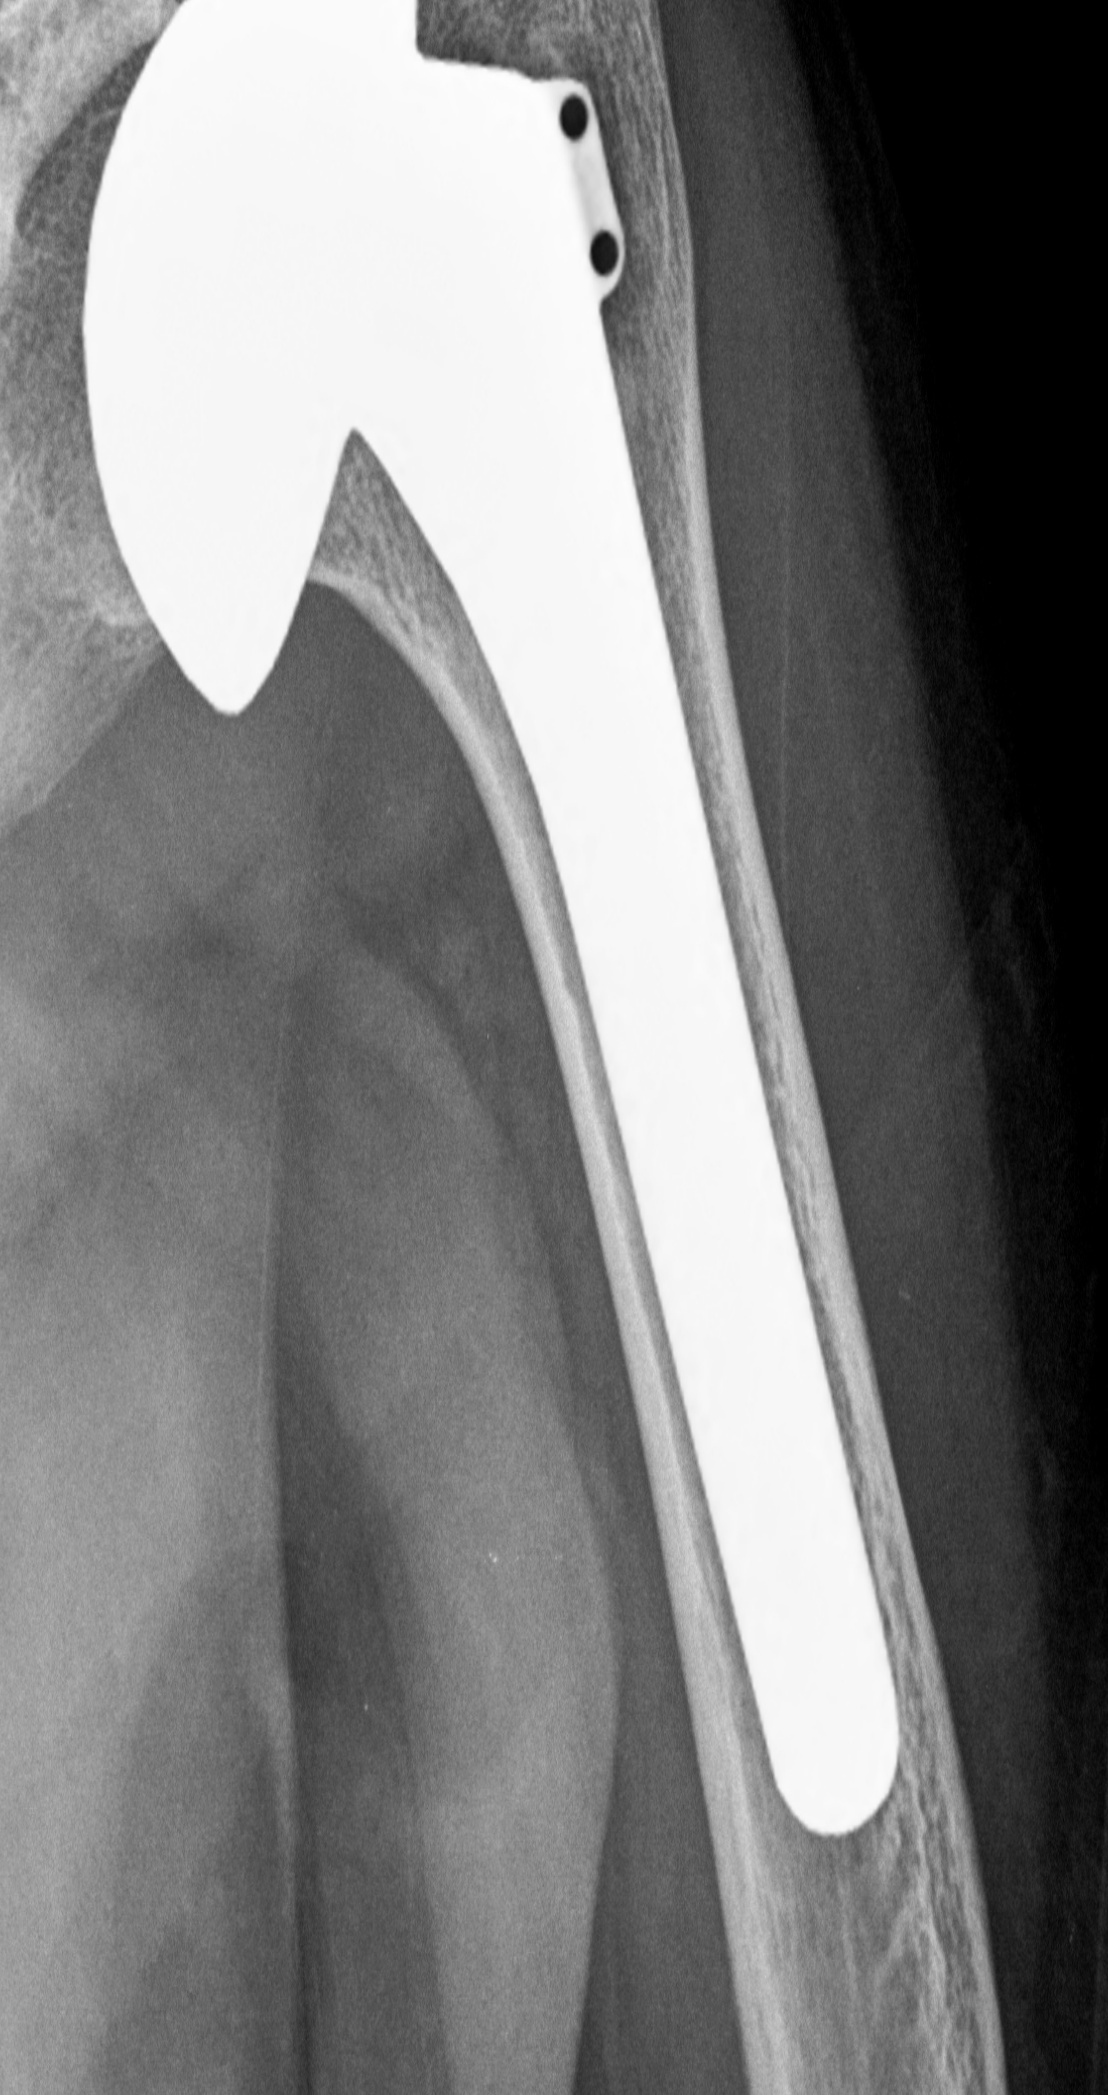Shoulder - AequalisPressfit - Tornier: (60, 1, 645, 727)
